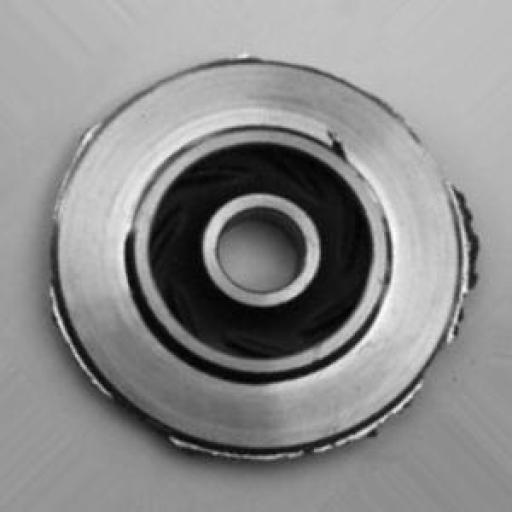defect: (47, 30, 497, 470)
